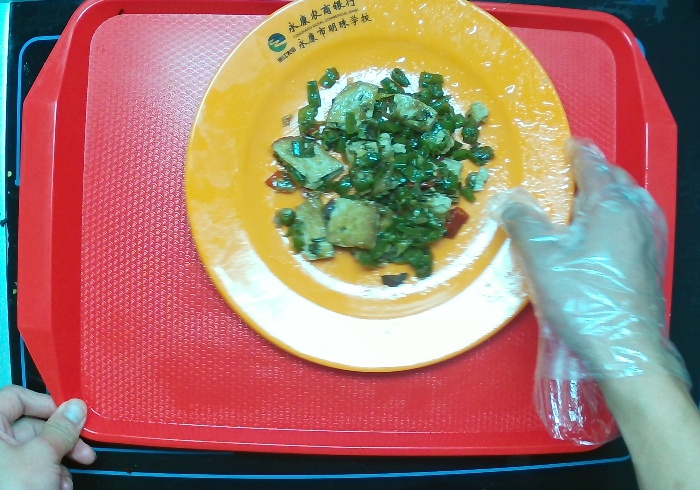YKMZ-Ju_Se_Mian_Pan: (181, 1, 583, 378)
